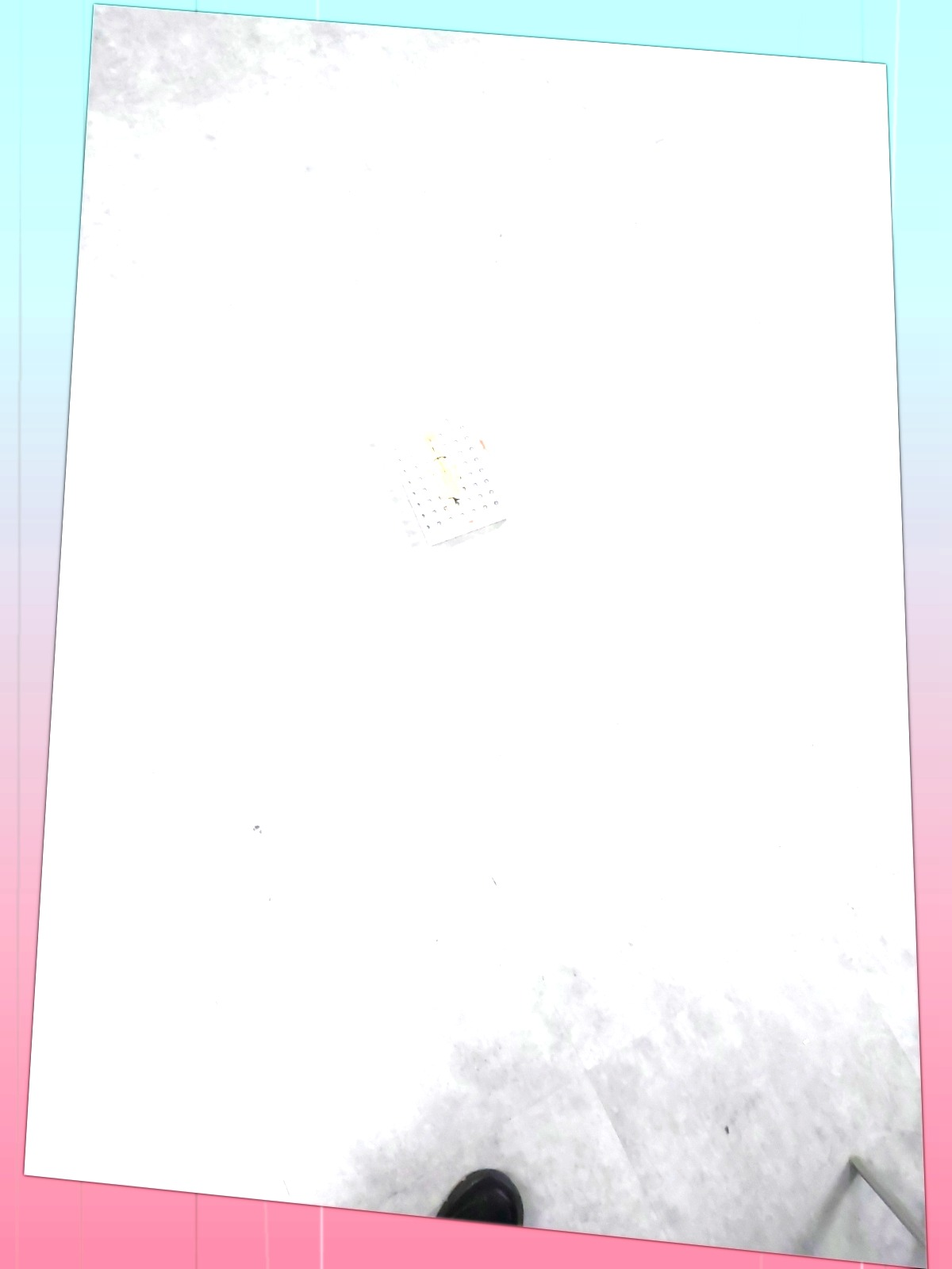basket: (373, 396, 513, 557)
mannequin: (420, 429, 467, 512)
